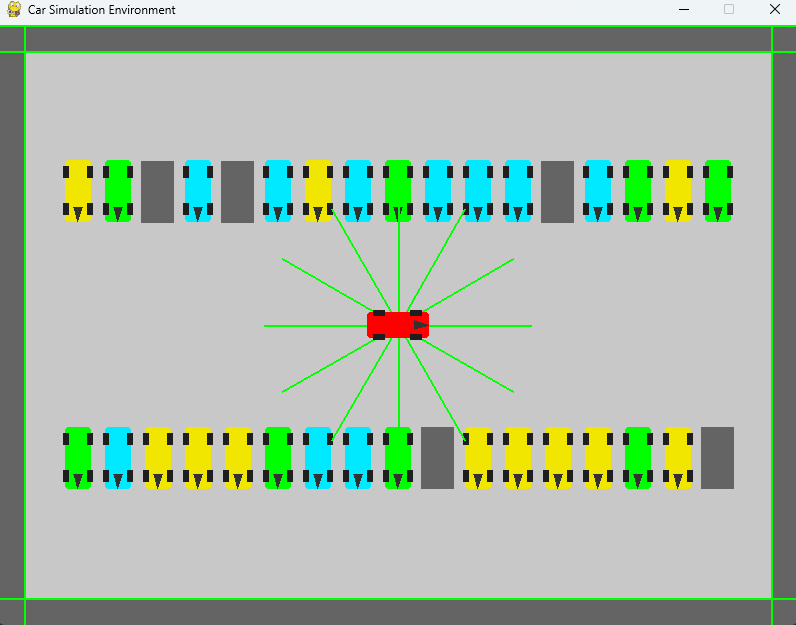ControlledCar: (362, 303, 433, 347)
ParkedCar: (57, 421, 98, 491), (377, 155, 416, 227), (139, 425, 178, 494), (618, 155, 656, 225), (220, 425, 257, 496), (378, 424, 416, 493), (180, 156, 217, 226), (418, 157, 455, 227), (459, 425, 497, 493), (301, 153, 336, 226), (458, 157, 496, 224), (579, 157, 617, 224), (658, 424, 696, 491), (260, 153, 294, 227), (500, 156, 535, 227), (340, 425, 375, 496), (699, 160, 737, 225), (340, 157, 376, 225), (298, 426, 336, 490), (661, 158, 696, 227), (62, 154, 94, 228), (501, 425, 535, 493), (580, 424, 614, 492), (102, 157, 135, 227), (540, 424, 574, 490), (99, 425, 132, 490), (182, 425, 214, 490), (262, 425, 294, 490), (621, 425, 652, 492)
ParkingSpot: (417, 421, 457, 496), (699, 423, 737, 497), (139, 155, 176, 228), (538, 156, 576, 227), (221, 156, 256, 227)
